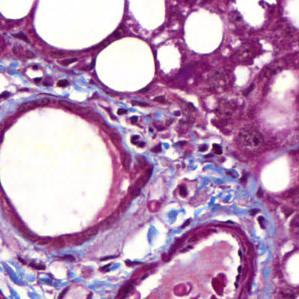steatosis: (93, 37, 160, 94)
